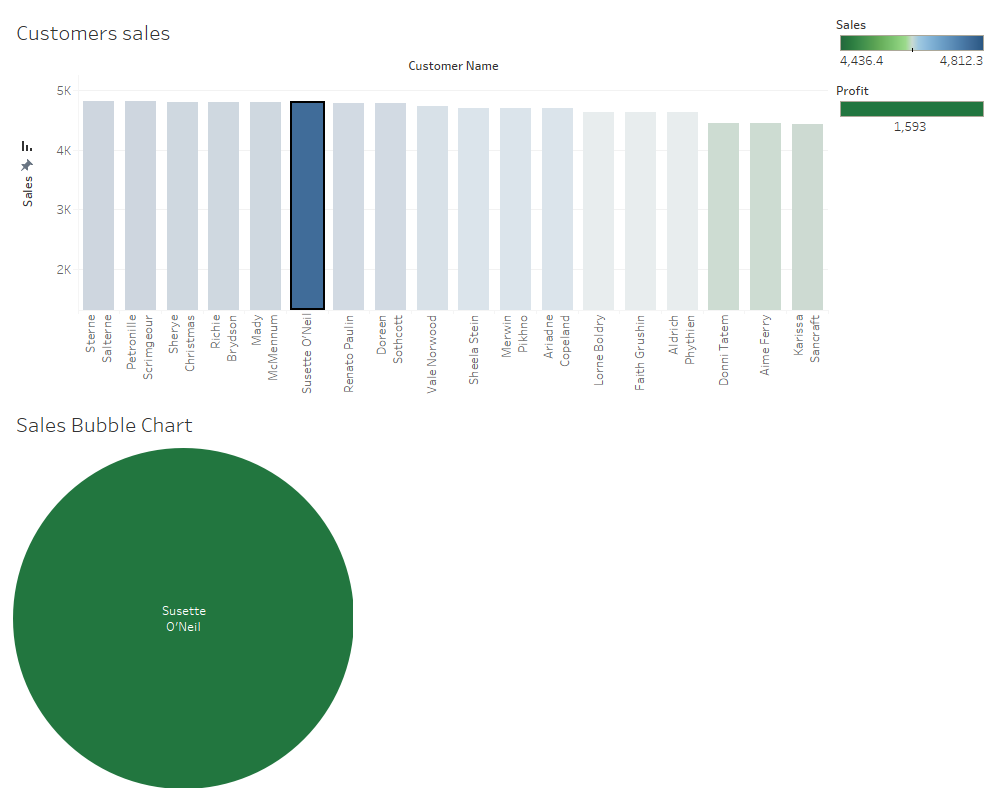

The page's visual inventory and layout, read from the dashboard file:
{"tool":"tableau","page":{"name":"Interactive dashboard","canvas":[1000,800],"ordinal":0},"visuals":[{"type":"worksheet","title":"Customers sales","mark":"Automatic","rows":["Sales"],"cols":["Customer Name"],"box":[8,8,824,392]},{"type":"legend","title":"Customers sales","param":"[federated.077tl4h01tfz0q1bp9hyg0v1jmli].[sum:Sales:qk]","box":[832,8,160,65]},{"type":"legend","title":"Sales Bubble Chart","param":"[federated.077tl4h01tfz0q1bp9hyg0v1jmli].[sum:Calculation_768989704162156544:qk]","box":[832,73,160,65]},{"type":"worksheet","title":"Sales Bubble Chart","mark":"Circle","box":[8,400,824,392]}]}

Visuals, with their boxes in screenshot pixels (x1, y1, x2, y2), scaled from the page's 1000x800 canvas onto the 1000x800 screenshot:
"Customers sales" worksheet: pyautogui.locateOnScreen(8, 8, 832, 400)
"Customers sales" legend: pyautogui.locateOnScreen(832, 8, 992, 73)
"Sales Bubble Chart" legend: pyautogui.locateOnScreen(832, 73, 992, 138)
"Sales Bubble Chart" worksheet (Circle marks): pyautogui.locateOnScreen(8, 400, 832, 792)
